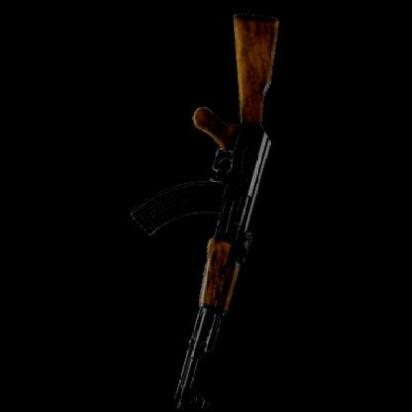Gun: (83, 0, 348, 412)
